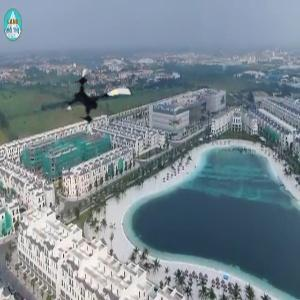drone: (62, 65, 135, 138)
